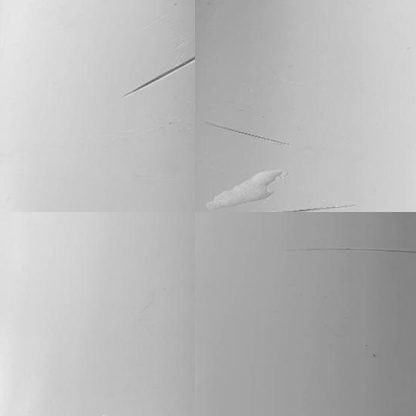sunshang: (203, 168, 290, 209), (126, 57, 198, 97), (201, 119, 291, 150)
